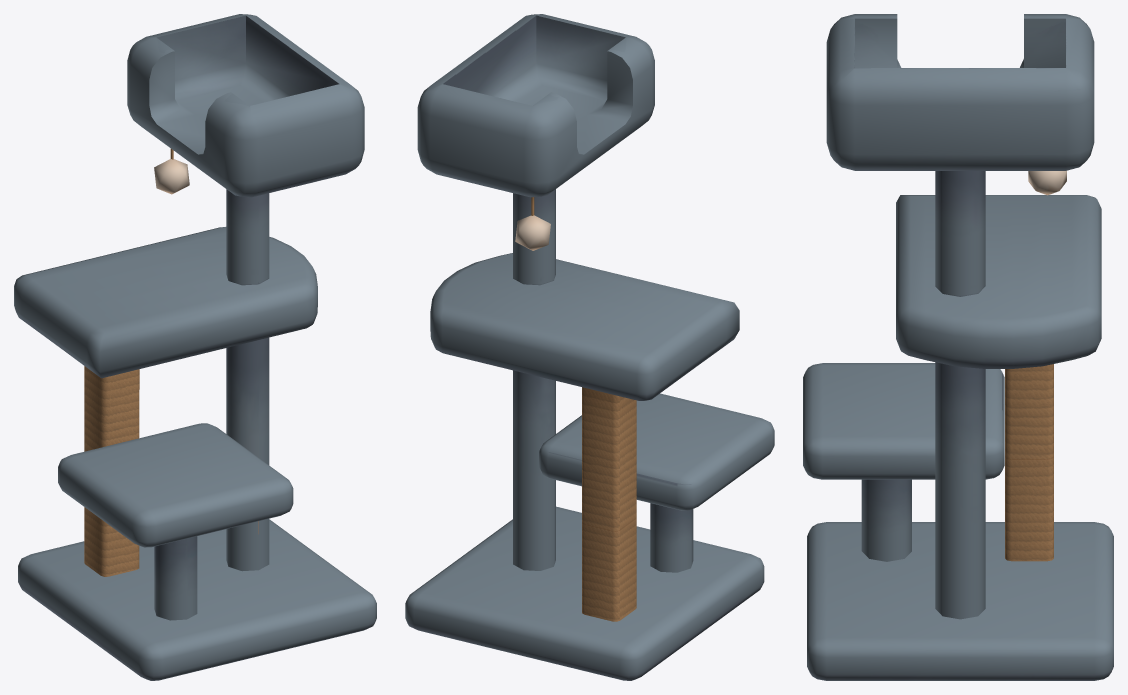
The model's file is CatTower.fbx.
The picture shows the model from 3 angles, left to right: view 1: azimuth 30°, elevation 25°; view 2: azimuth 150°, elevation 25°; view 3: azimuth 270°, elevation 25°; orthographic projection. The views are drawn at different scales.
Parts seen in each view (by area): view 1: Cube.001; view 2: Cube.001; view 3: Cube.001.
Part boxes in pixels (x1,y1,x2,y2): Cube.001: (14, 14, 376, 680); Cube.001: (405, 14, 774, 680); Cube.001: (803, 14, 1113, 680).
Size of the model in its own units: 96.22 by 200 by 92.96.
